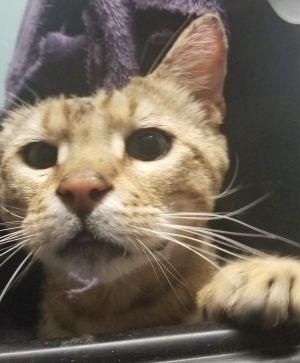bengal: (1, 8, 241, 284)
